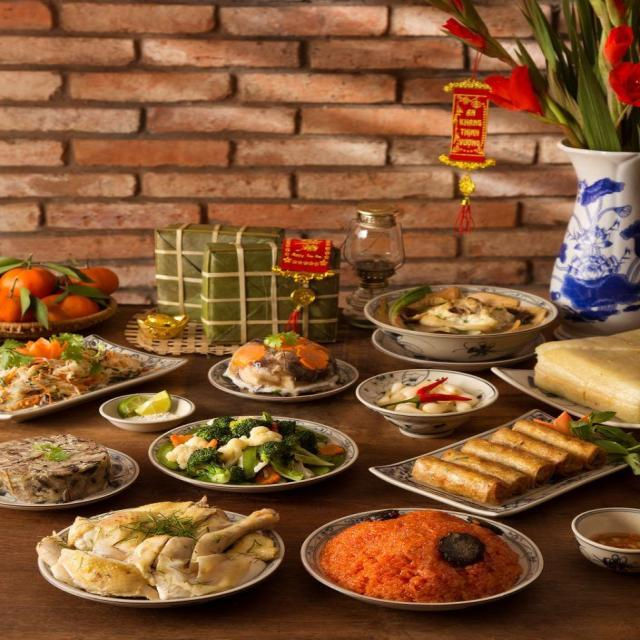banh chung: (154, 221, 342, 339), (534, 330, 640, 424)
cha ram: (421, 420, 602, 505)
cha thu: (0, 435, 114, 501)
ga luoc: (40, 510, 278, 601)
goi: (1, 338, 125, 399)
la ghim: (159, 418, 341, 484)
mang: (365, 288, 553, 351)
quyt: (0, 253, 121, 333)
thit dong: (222, 340, 351, 396)
xoi: (314, 514, 535, 604)
